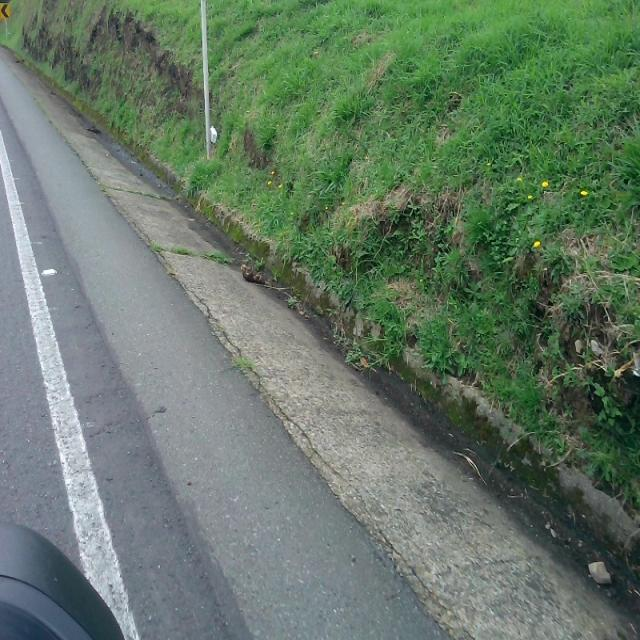DITCH: (2, 40, 638, 638), (2, 49, 638, 638), (1, 65, 638, 638)
